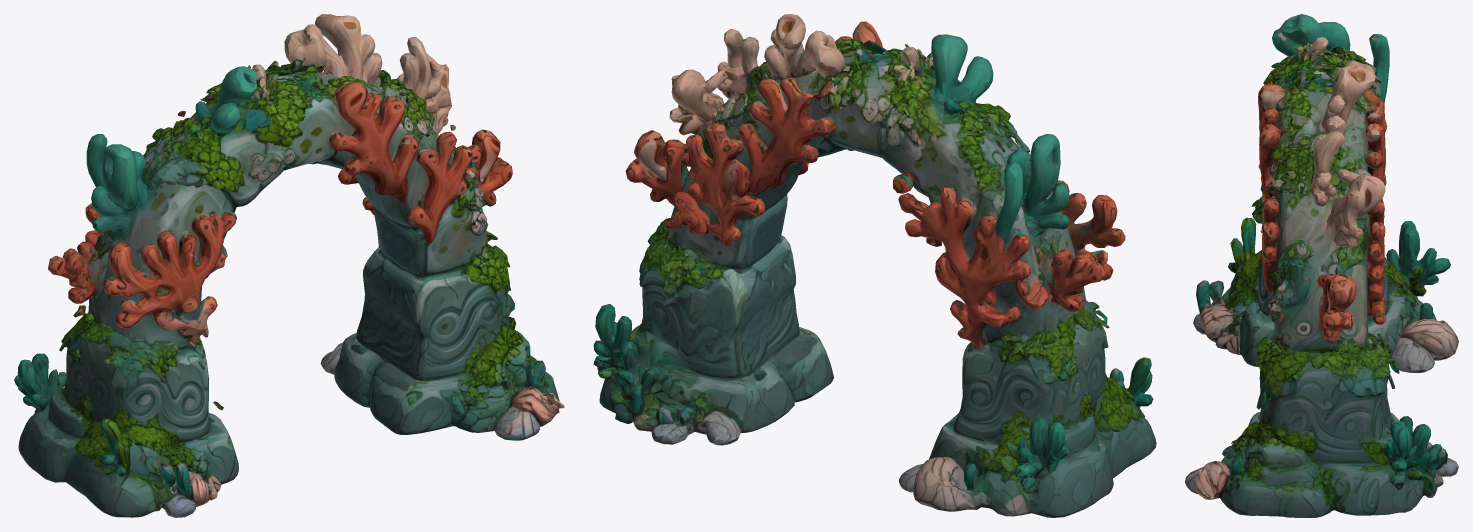
Rendered from ocean_coral_arch.glb.
3 views of the same model, side by side, from view 1: azimuth 30°, elevation 25°; view 2: azimuth 150°, elevation 25°; view 3: azimuth 270°, elevation 25° (orthographic). The views are drawn at different scales.
Visible parts, largest first — view 1: textured_mesh.obj; view 2: textured_mesh.obj; view 3: textured_mesh.obj.
Part boxes in pixels (left/top/right/bottom): textured_mesh.obj: left=14, top=14, right=564, bottom=517; textured_mesh.obj: left=593, top=14, right=1156, bottom=517; textured_mesh.obj: left=1185, top=14, right=1458, bottom=517.
Size of the model in its own units: 1.99 by 1.58 by 1.05.
1 material, 1 textured.
